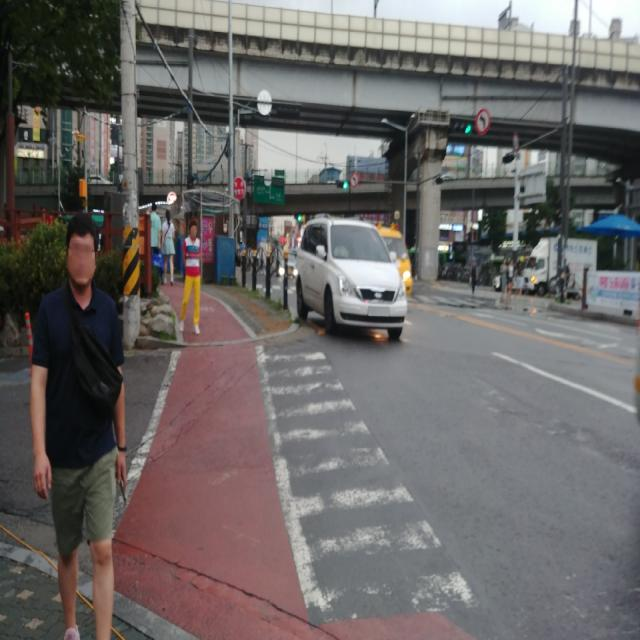횡단보도: (254, 339, 483, 630)
